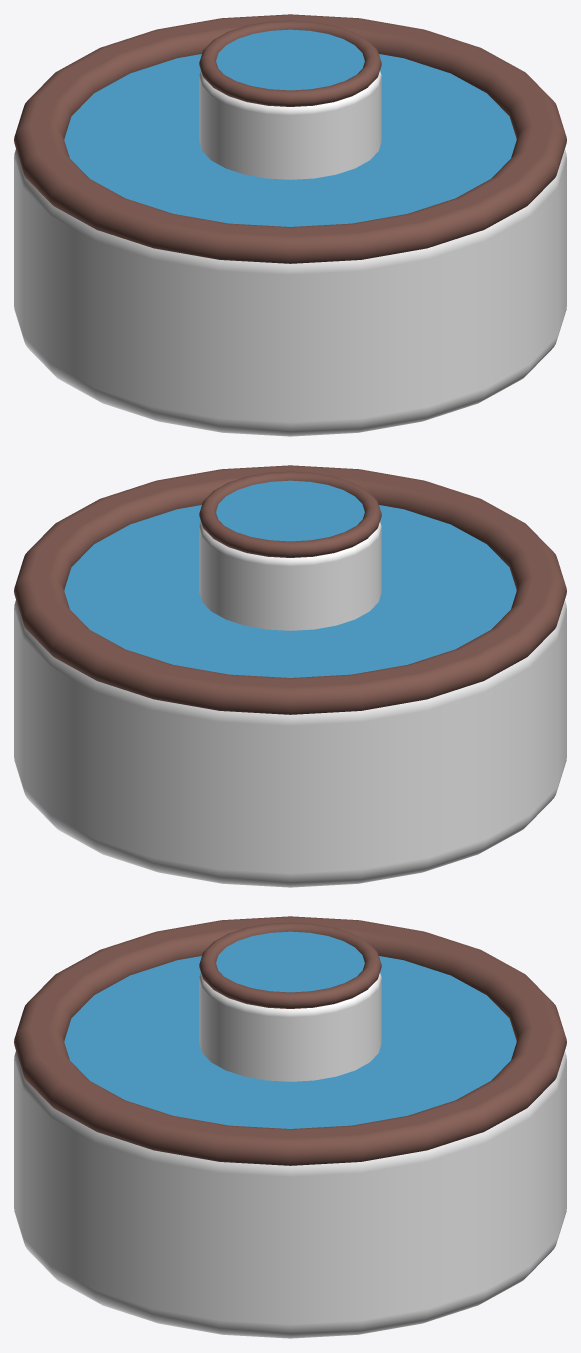
The model's file is fountain-two.gltf.
3 renders of one model, top to bottom at view 1: azimuth 30°, elevation 25°; view 2: azimuth 150°, elevation 25°; view 3: azimuth 270°, elevation 25°, orthographic.
Parts seen in each view (by area): view 1: Cylinder, Cylinder 3, Cylinder 5, Cylinder 2, Cylinder 6, Cylinder 4; view 2: Cylinder, Cylinder 3, Cylinder 5, Cylinder 2, Cylinder 6, Cylinder 4; view 3: Cylinder, Cylinder 3, Cylinder 5, Cylinder 2, Cylinder 6, Cylinder 4.
Boxes of the visible parts, bbox=[...] form: Cylinder: bbox=[14, 149, 566, 436]; Cylinder 3: bbox=[14, 14, 566, 263]; Cylinder 5: bbox=[64, 54, 516, 226]; Cylinder 2: bbox=[199, 71, 381, 179]; Cylinder 6: bbox=[216, 29, 364, 90]; Cylinder 4: bbox=[199, 20, 381, 106]; Cylinder: bbox=[14, 600, 566, 887]; Cylinder 3: bbox=[14, 465, 566, 714]; Cylinder 5: bbox=[64, 505, 516, 677]; Cylinder 2: bbox=[199, 522, 381, 630]; Cylinder 6: bbox=[216, 480, 364, 541]; Cylinder 4: bbox=[199, 471, 381, 557]; Cylinder: bbox=[14, 1051, 566, 1338]; Cylinder 3: bbox=[14, 916, 566, 1165]; Cylinder 5: bbox=[64, 956, 516, 1128]; Cylinder 2: bbox=[199, 973, 381, 1081]; Cylinder 6: bbox=[216, 931, 364, 992]; Cylinder 4: bbox=[199, 922, 381, 1008].
Bounding box in the file's own units: 4.71 × 2.56 × 4.71.
